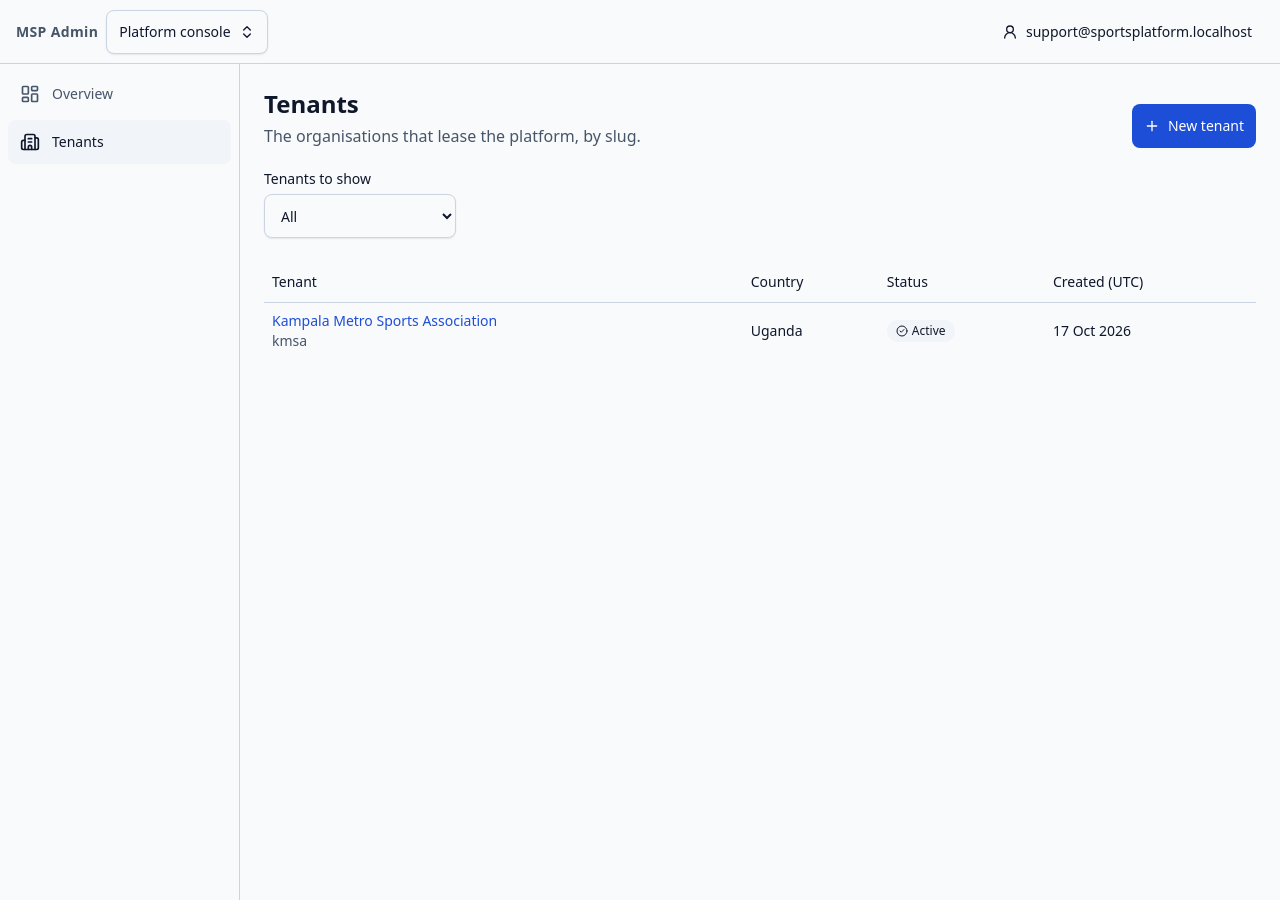
Test: tenants list › filters by status and pages with Show more
The image size is (1280, 900).
Expected: the link "Kampala Metro Sports Association" is shown, [272,310,497,330]
Select "Provisioning" in the dropdown labelled "Tenants to show" at (360, 216), box [264,194,456,238]
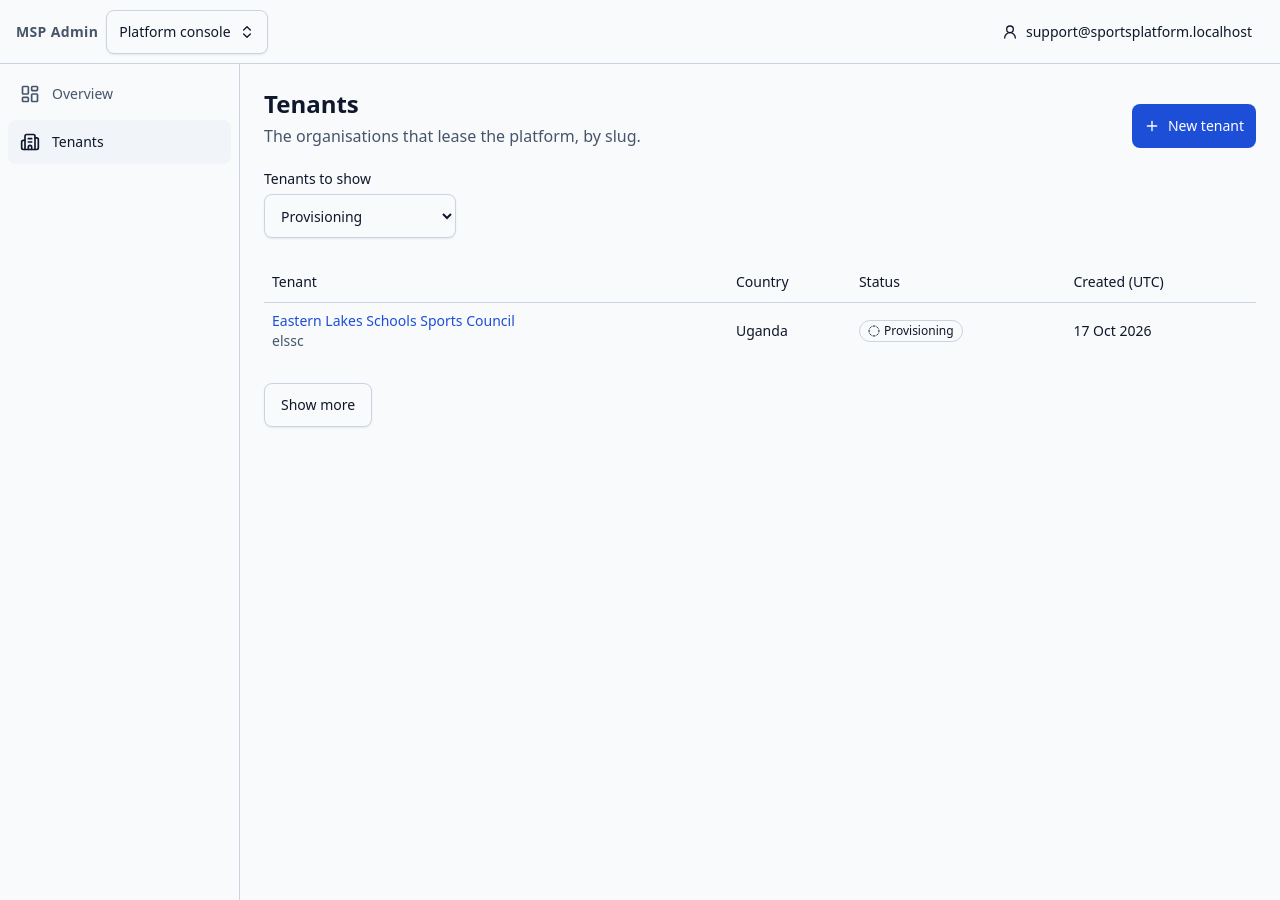
Expected: the link "Eastern Lakes Schools Sports Council" is shown, [272,310,515,330]
Click the button "Show more".
click(318, 404)  # box [264,382,372,426]
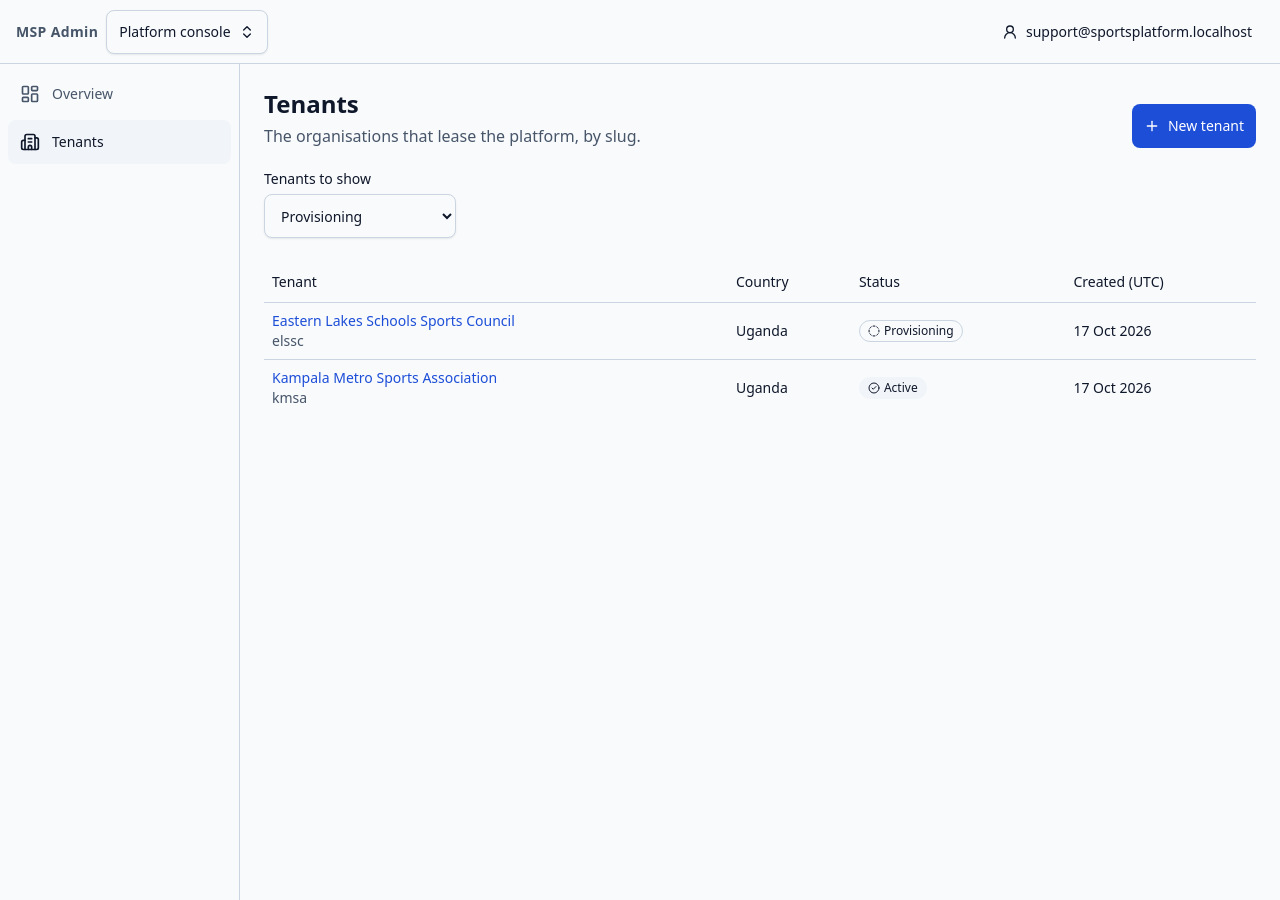
Expected: the link "Kampala Metro Sports Association" is shown, [272,368,497,386]
Expected: the button "Show more" is gone
